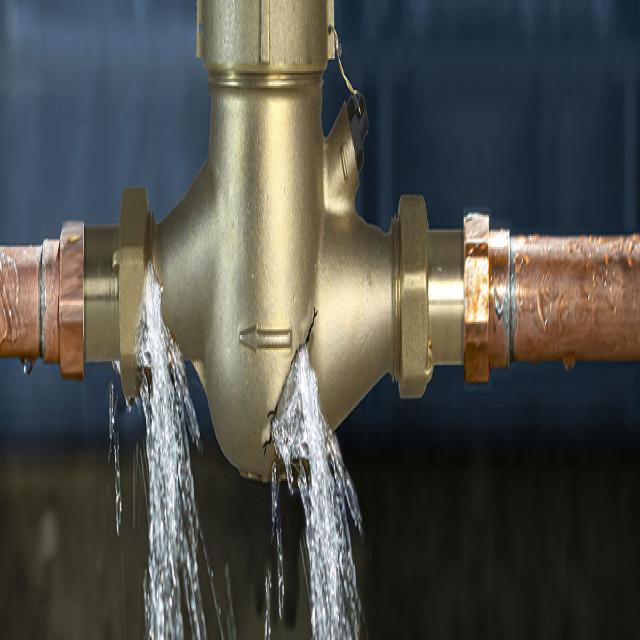pipe burst: (262, 307, 369, 640), (140, 264, 206, 640)
